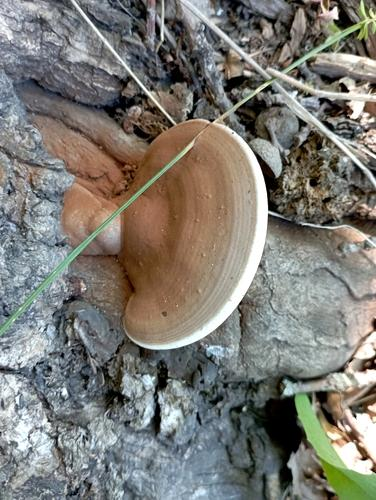Ganoderma - Fruit Body: (111, 114, 274, 358)
